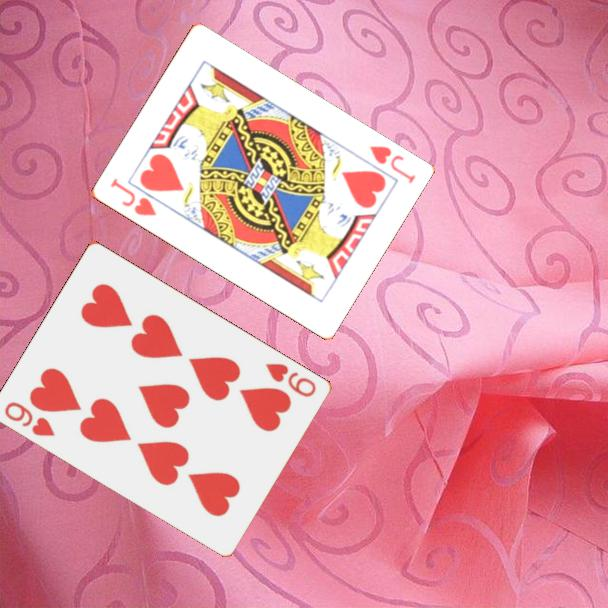h09: (262, 359, 319, 400), (1, 398, 58, 439)
h11: (366, 142, 418, 187), (106, 175, 159, 219)
